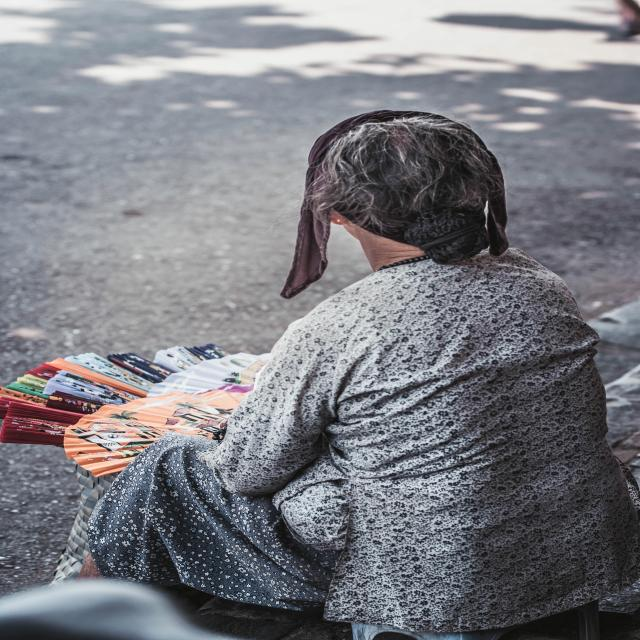adult: (82, 110, 625, 640)
